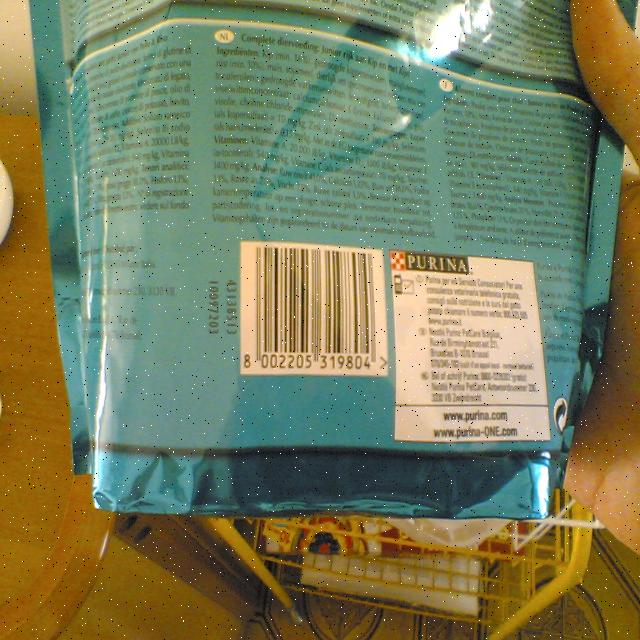barcode: (240, 242, 388, 376)
